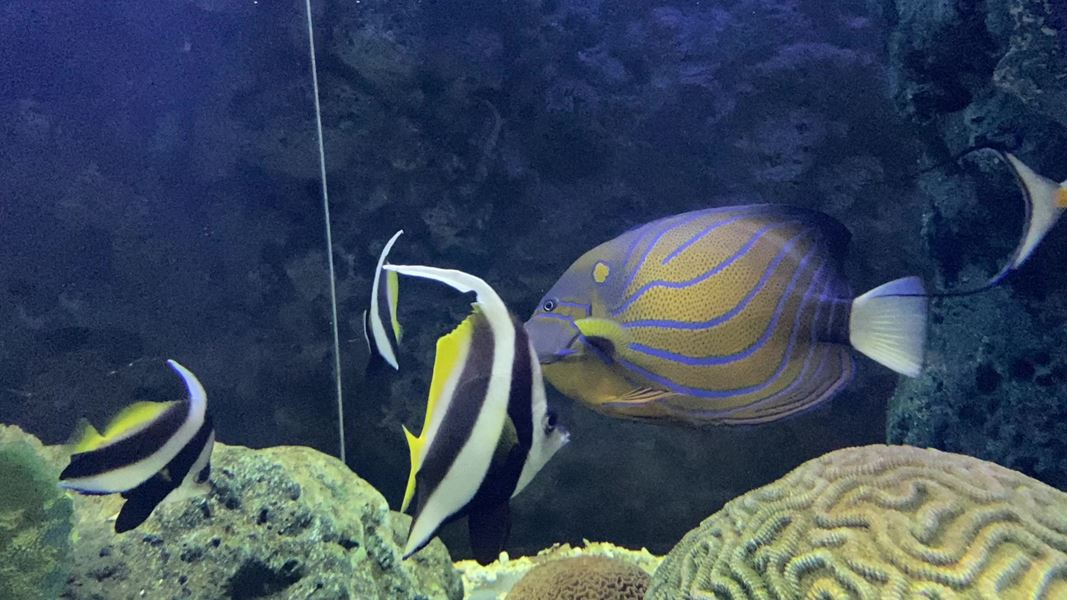Blue ring angelfish: (508, 201, 944, 442)
